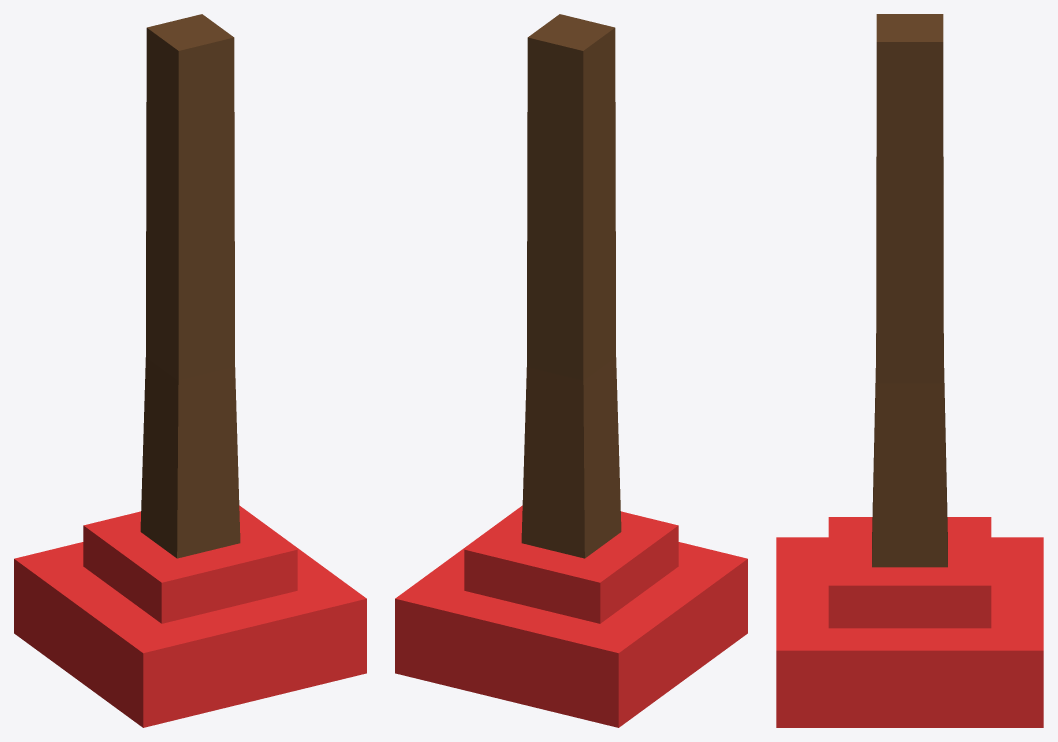
The model's file is Plunger.fbx.
The picture shows the model from 3 angles, left to right: view 1: azimuth 30°, elevation 25°; view 2: azimuth 150°, elevation 25°; view 3: azimuth 270°, elevation 25°; orthographic projection. The views are drawn at different scales.
Parts seen in each view (by area): view 1: Plunger; view 2: Plunger; view 3: Plunger.
Boxes of the visible parts, x1,y1,x2,y2 form: Plunger: (14, 14, 366, 727); Plunger: (395, 14, 747, 727); Plunger: (776, 14, 1043, 727).
Bounding box in the file's own units: 0.1823 × 0.4834 × 0.1823.
